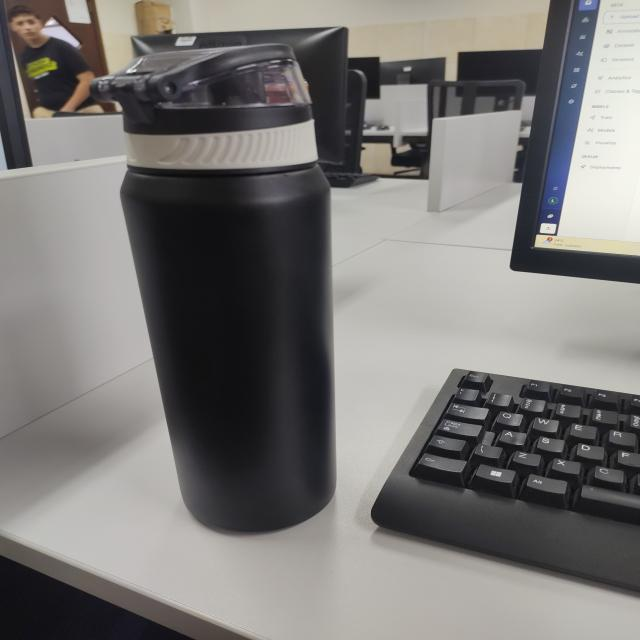Garrafa: (84, 7, 414, 548)
